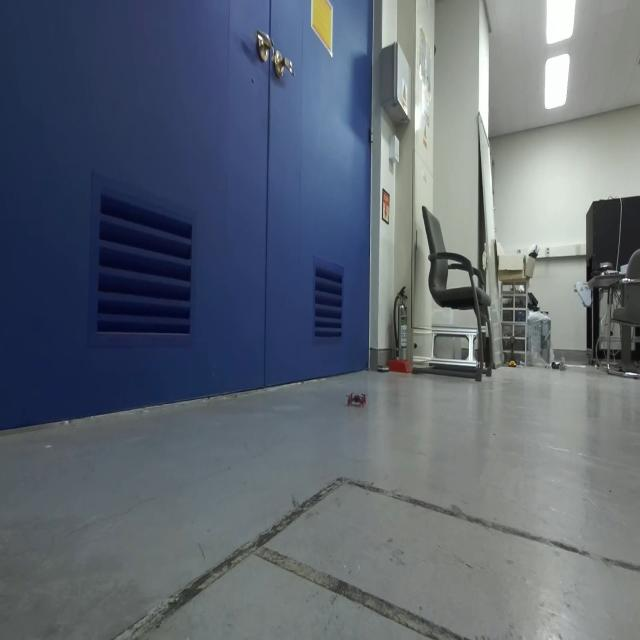crazyflie: (345, 387, 371, 412)
